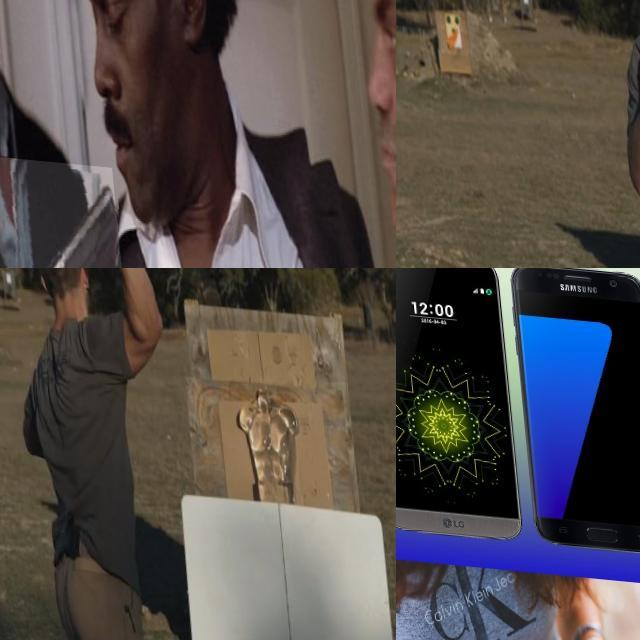-: (18, 268, 99, 313)
gun-knife-thesis - v11 Yolov5 augmented: (0, 152, 120, 268)
